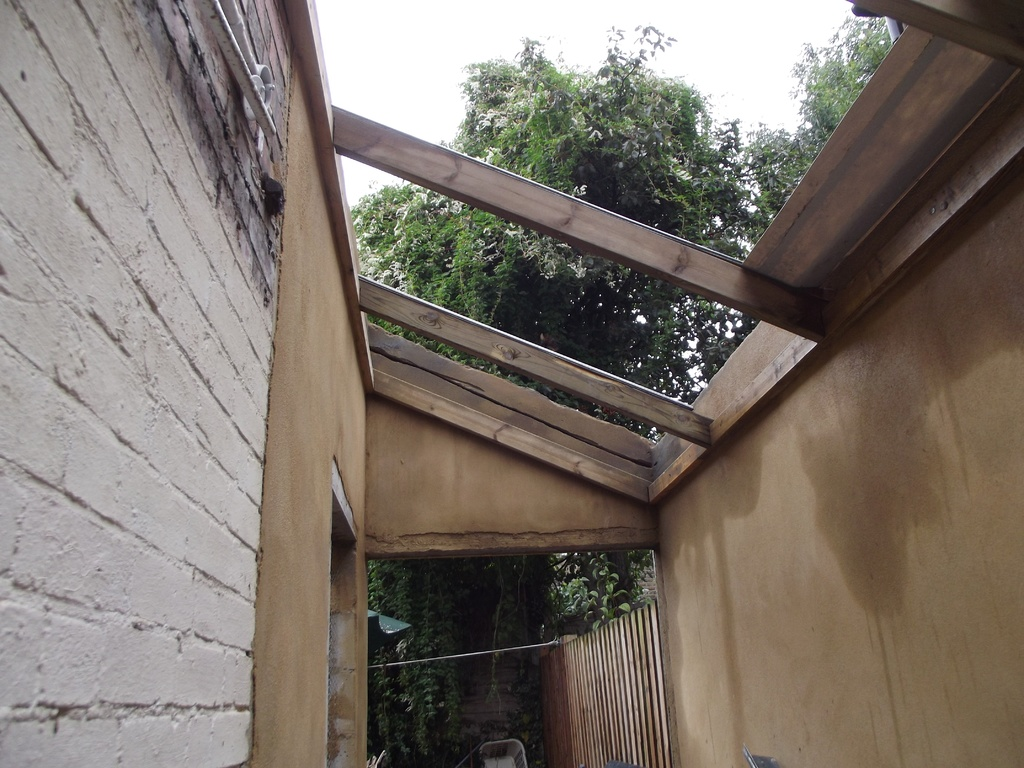Tree: (445, 20, 752, 743), (339, 181, 487, 767), (737, 3, 906, 224)
